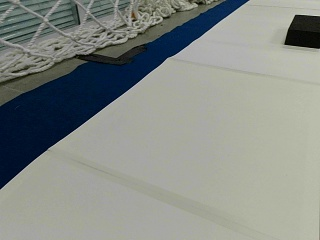block: (284, 14, 319, 48)
